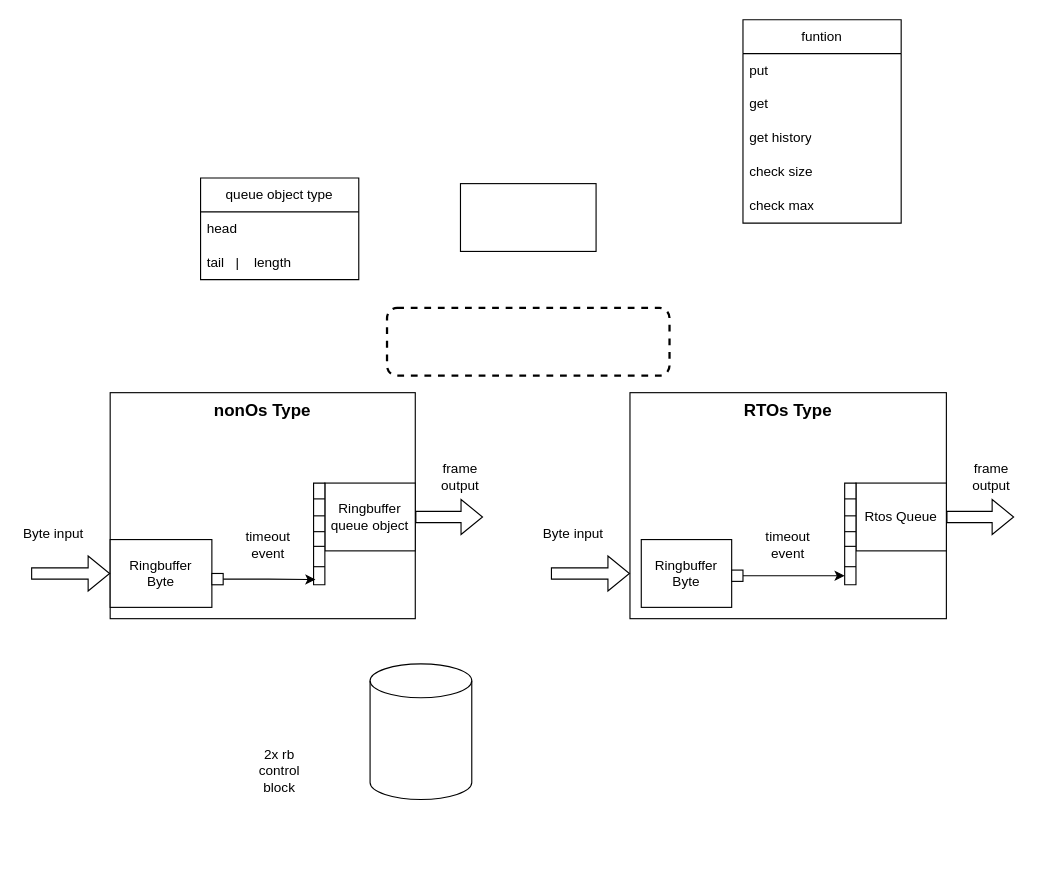
Image size: 1044x887. Some labels were removed from this diagram. Each missing label, with the centre of its shape:
Data Parse complex: [527,341]
Ringbuffer fixed size: [527,216]
